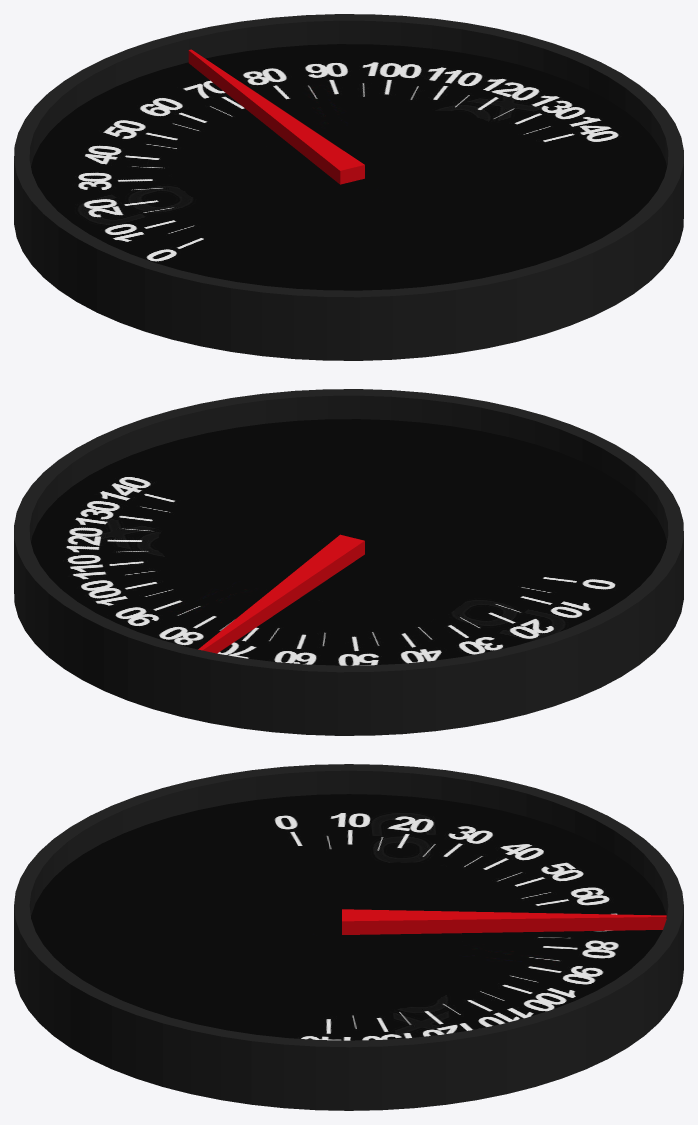
The model's file is Speedometer.fbx.
3 renders of one model, top to bottom at view 1: azimuth 30°, elevation 25°; view 2: azimuth 150°, elevation 25°; view 3: azimuth 270°, elevation 25°, orthographic.
Visible parts, largest first — view 1: Speedometer, Needle; view 2: Speedometer, Needle; view 3: Speedometer, Needle.
Boxes of the visible parts, x1,y1,x2,y2 form: Speedometer: [14, 14, 683, 360]; Needle: [188, 49, 364, 184]; Speedometer: [14, 389, 683, 735]; Needle: [198, 534, 364, 653]; Speedometer: [14, 764, 683, 1110]; Needle: [342, 909, 666, 934].
Size of the model in its own units: 200 by 20.98 by 200.
